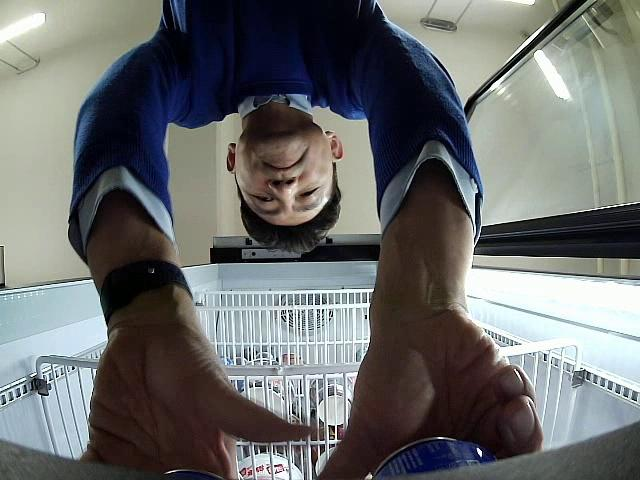00_hand: (318, 286, 543, 478), (77, 316, 313, 479)
